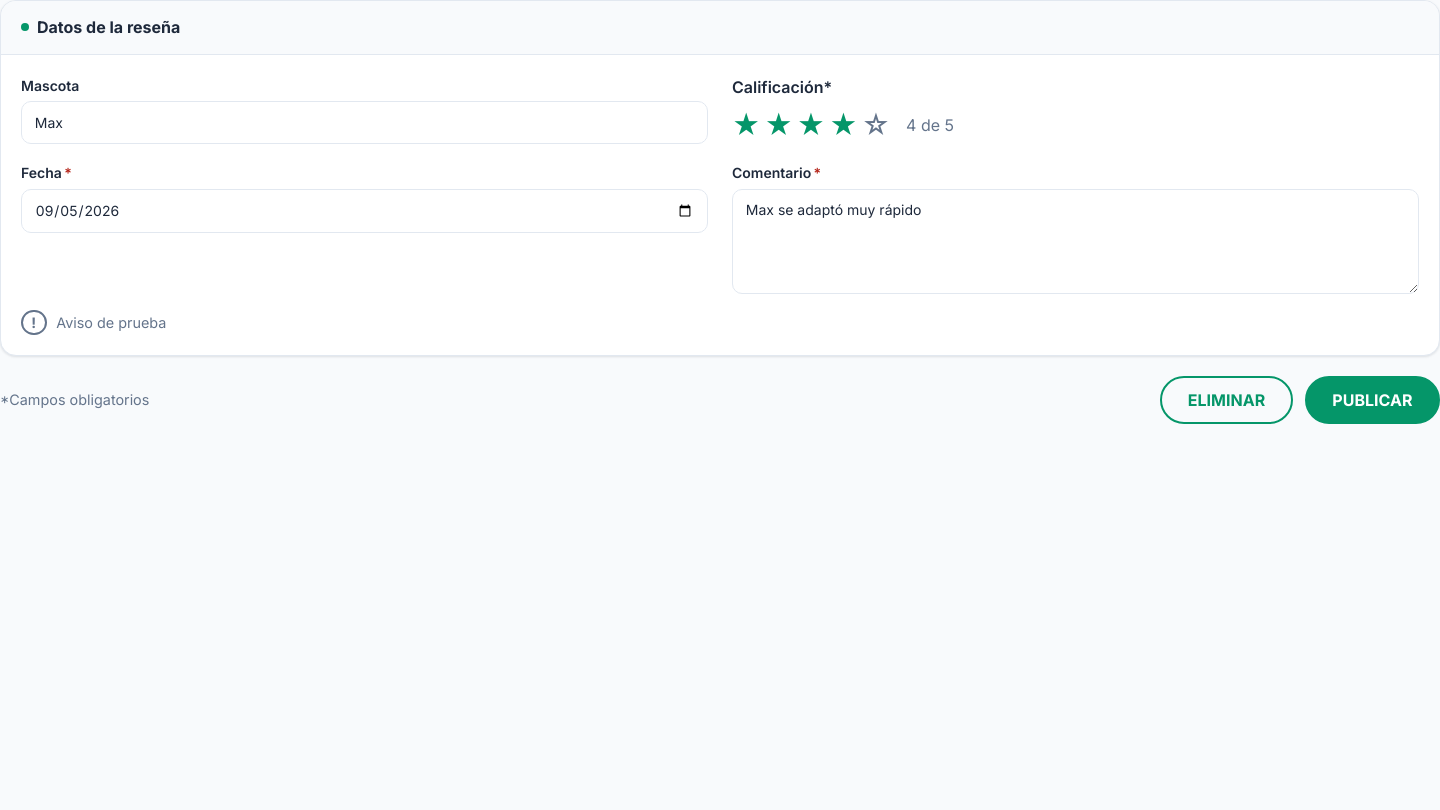
Test case: ReviewForm › deleting › asks for confirmation and does nothing when the user cancels
This screenshot has width=1440, height=810.
Click the button "Eliminar" at coordinates (1227, 400), box [1160,376,1293,424]
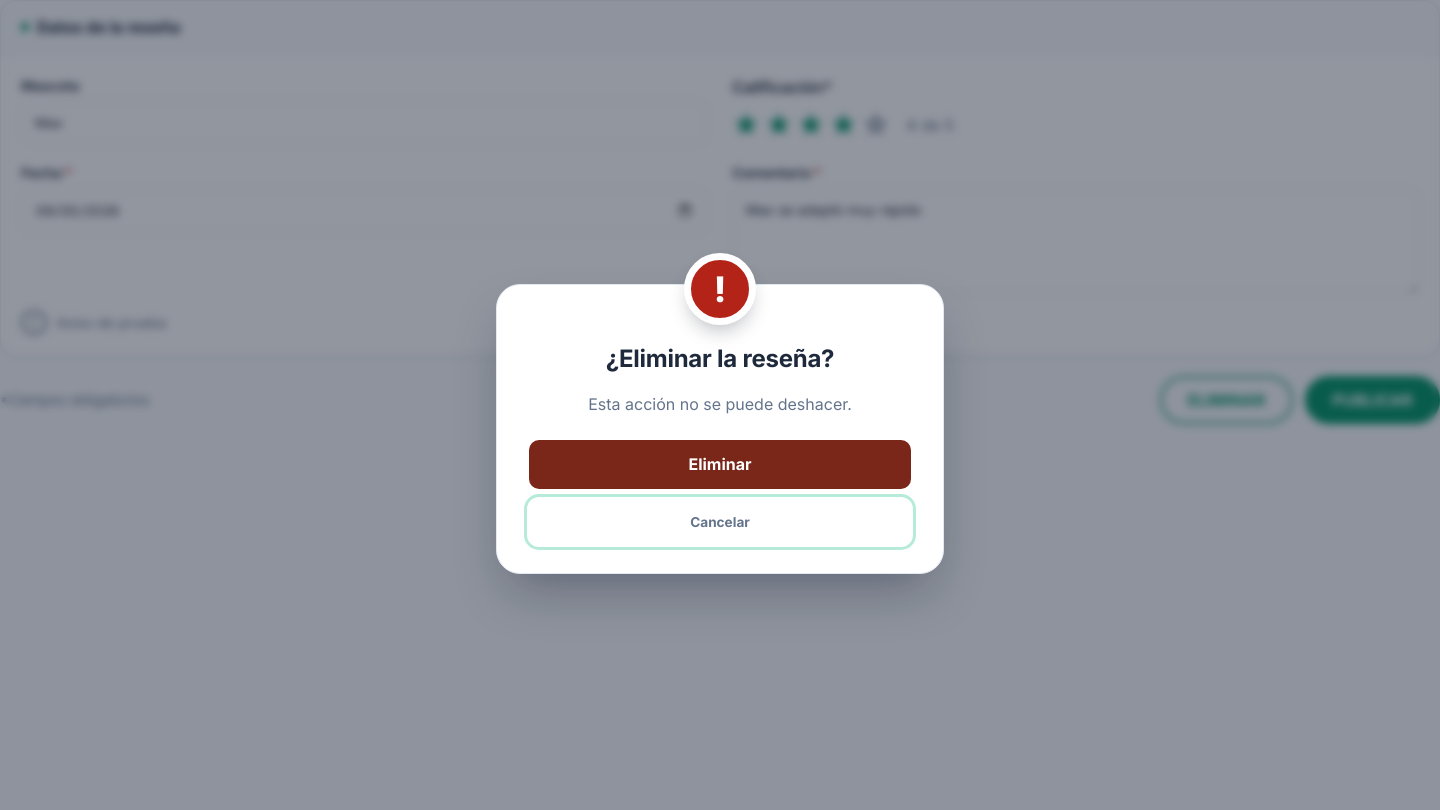
expect the dialog shows "¿Eliminar la reseña?": met, box [606,344,834,373]
Click the button "Cancelar" at coordinates (720, 522), box [529,499,911,545]
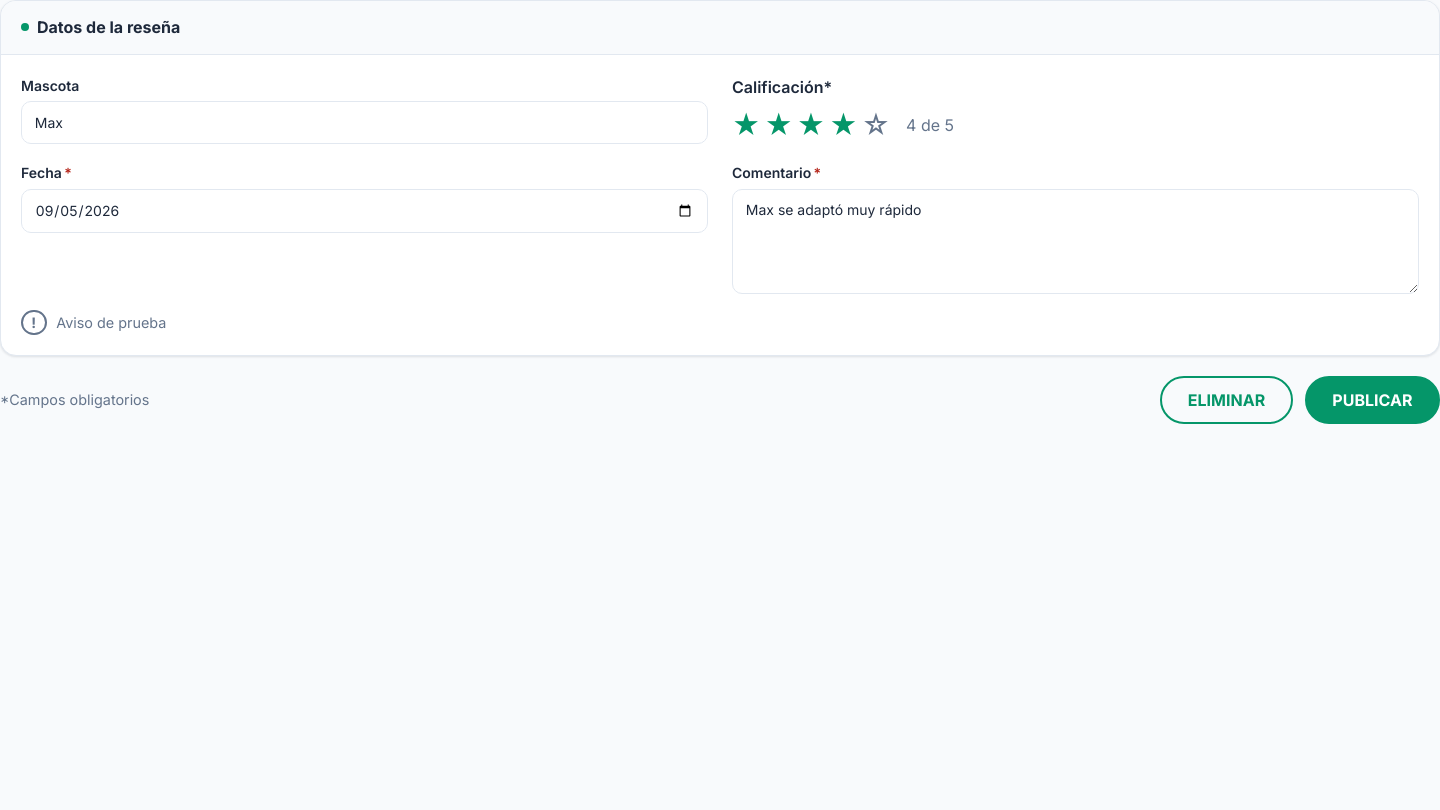
expect the dialog is gone: met
